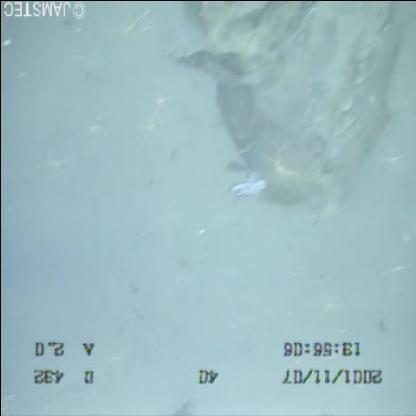Bio: (224, 173, 286, 209)
Rác: (174, 1, 415, 232)
